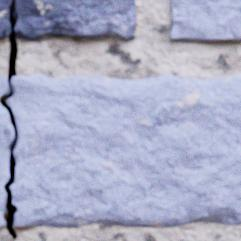brick: (169, 0, 240, 44)
broken_brick: (7, 75, 240, 228), (0, 0, 136, 41), (0, 106, 13, 227), (0, 77, 9, 98)
crack: (0, 2, 18, 239)
